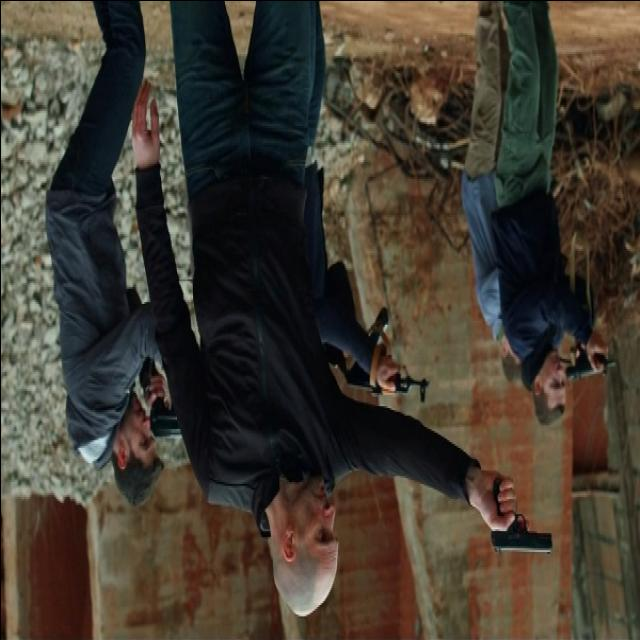weapons: (324, 284, 438, 414), (483, 460, 565, 572), (550, 299, 616, 406)
